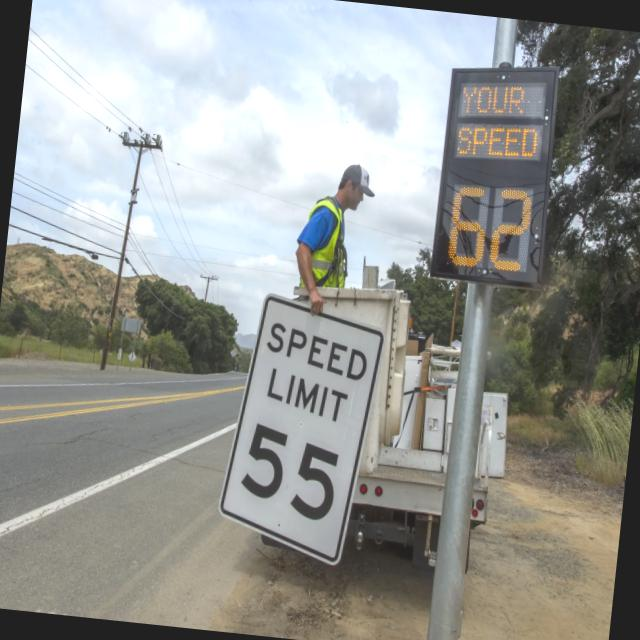Speed Limit Signs: (212, 288, 390, 570)
